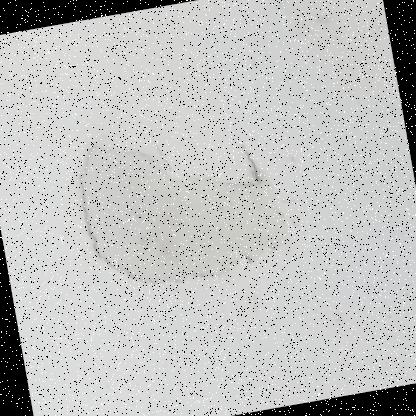Crack: (15, 64, 332, 333)
